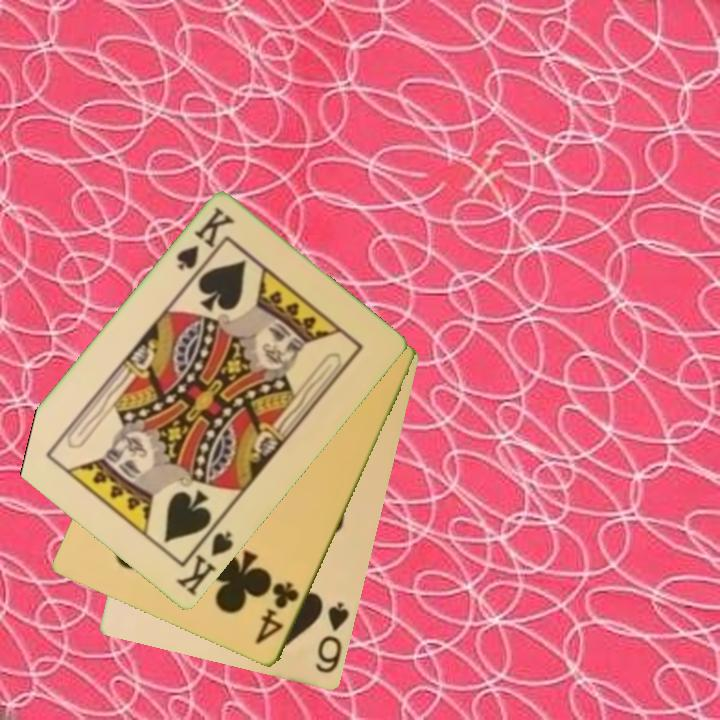4c: (251, 578, 302, 648)
6s: (312, 598, 353, 677)
Ks: (173, 204, 238, 275), (173, 528, 237, 600)
